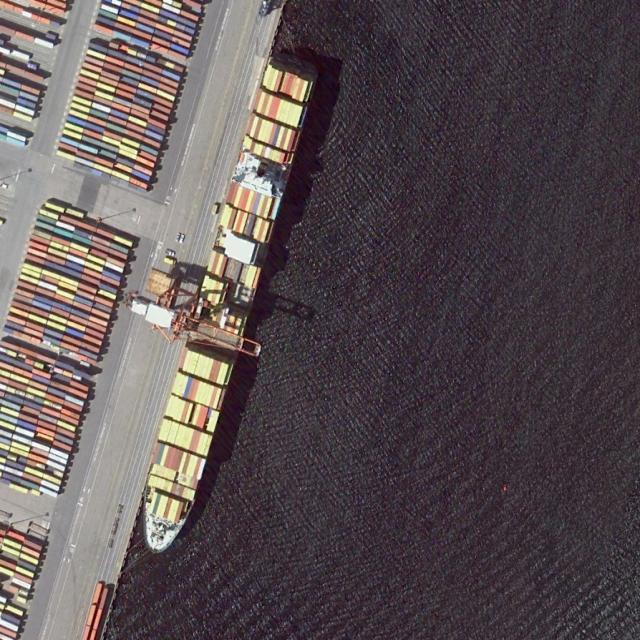Container Ship: (129, 60, 316, 562)
